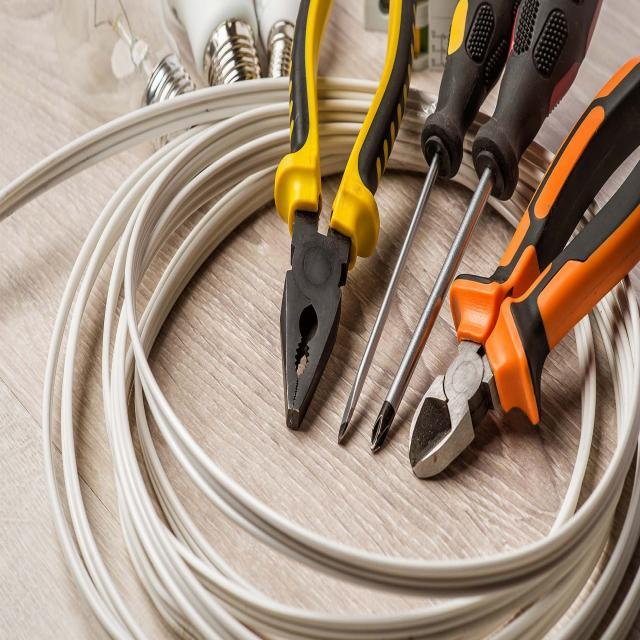screwdriver: (370, 0, 606, 462), (334, 0, 520, 449)
